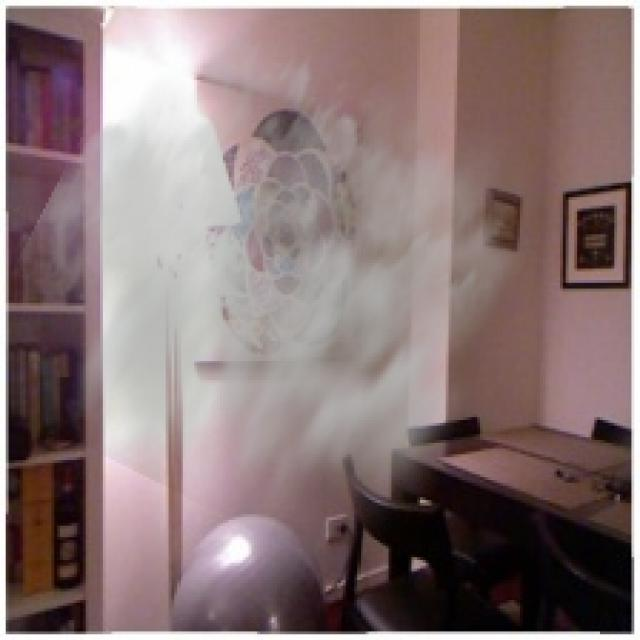smoke: (0, 20, 543, 589)
